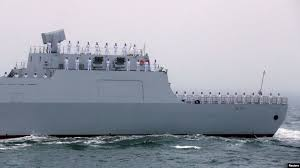tau_muctieu: (2, 32, 287, 142)
